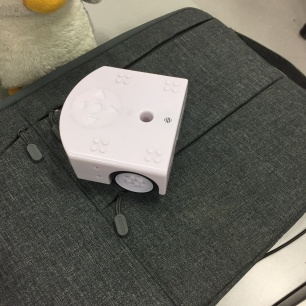thymio: (54, 58, 193, 200)
